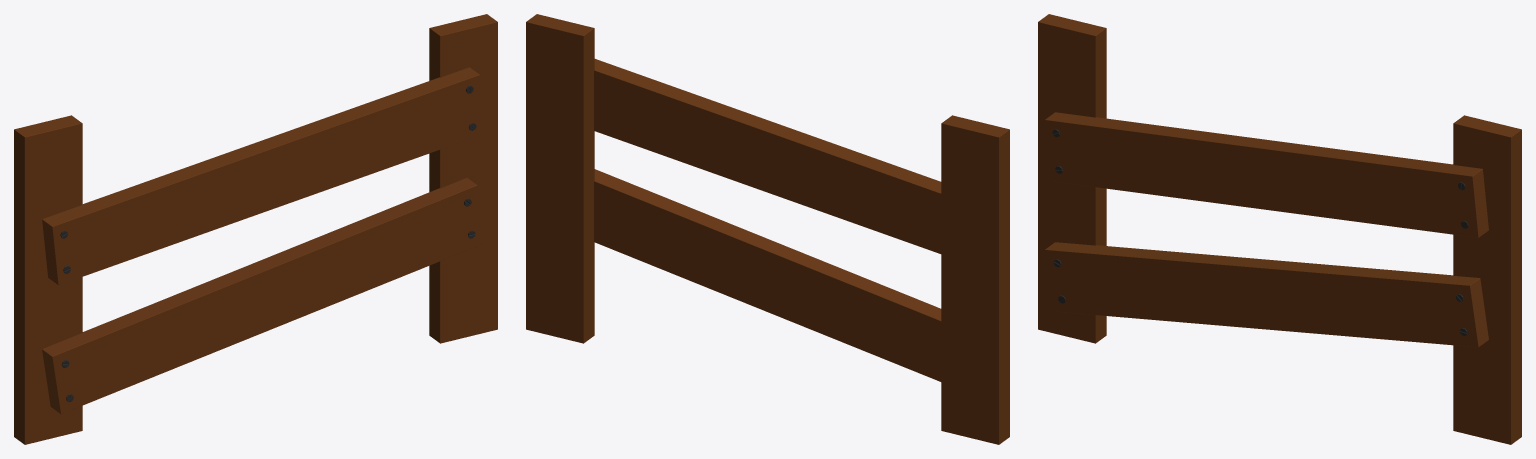
File: fence6.obj
3 views of the same model, side by side, from view 1: azimuth 30°, elevation 25°; view 2: azimuth 150°, elevation 25°; view 3: azimuth 330°, elevation 25° (orthographic).
Visible parts, largest first — view 1: Fence6; view 2: Fence6; view 3: Fence6.
Boxes of the visible parts, bbox=[...] form: Fence6: bbox=[14, 14, 497, 444]; Fence6: bbox=[526, 14, 1009, 444]; Fence6: bbox=[1038, 14, 1521, 444].
Bounding box in the file's own units: 3.51 × 2.18 × 0.2806.
